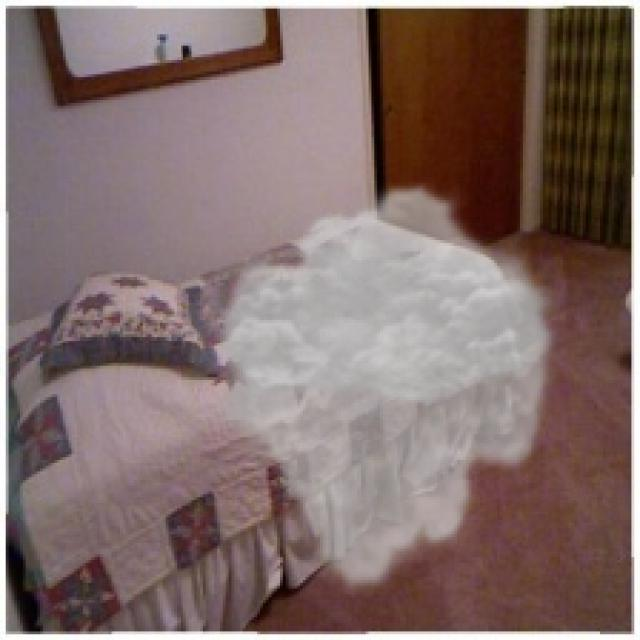Smoke: (208, 180, 563, 597)
